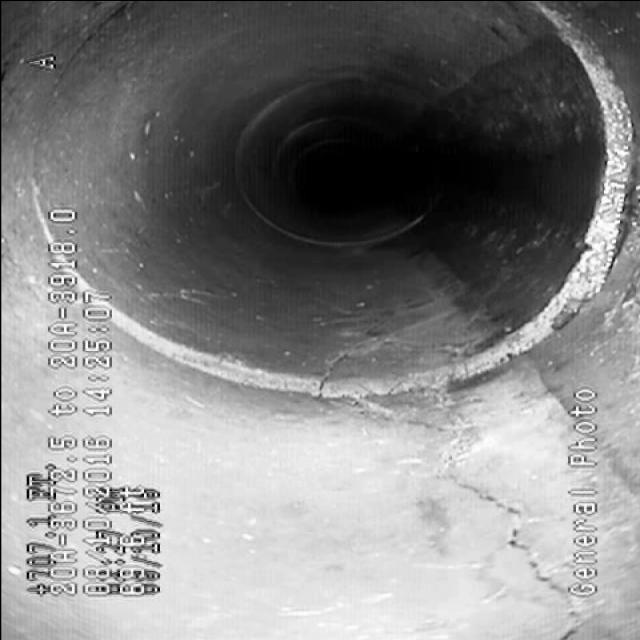Crack: (378, 414, 588, 602)
